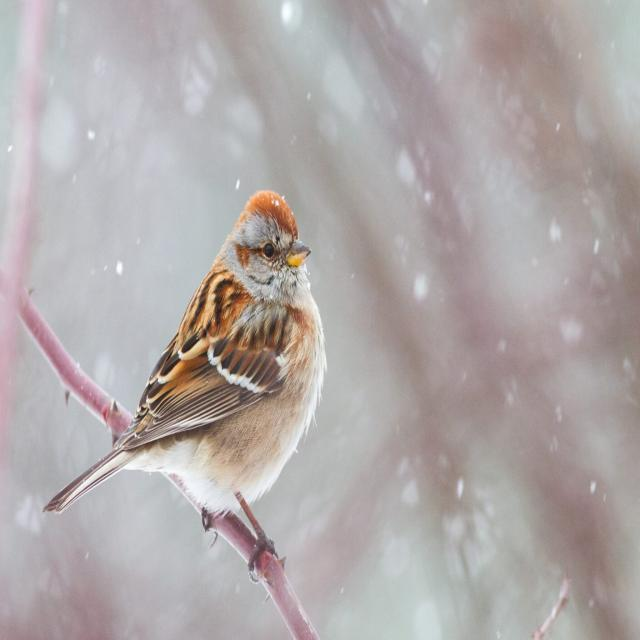Sparrow: (45, 182, 329, 556)
